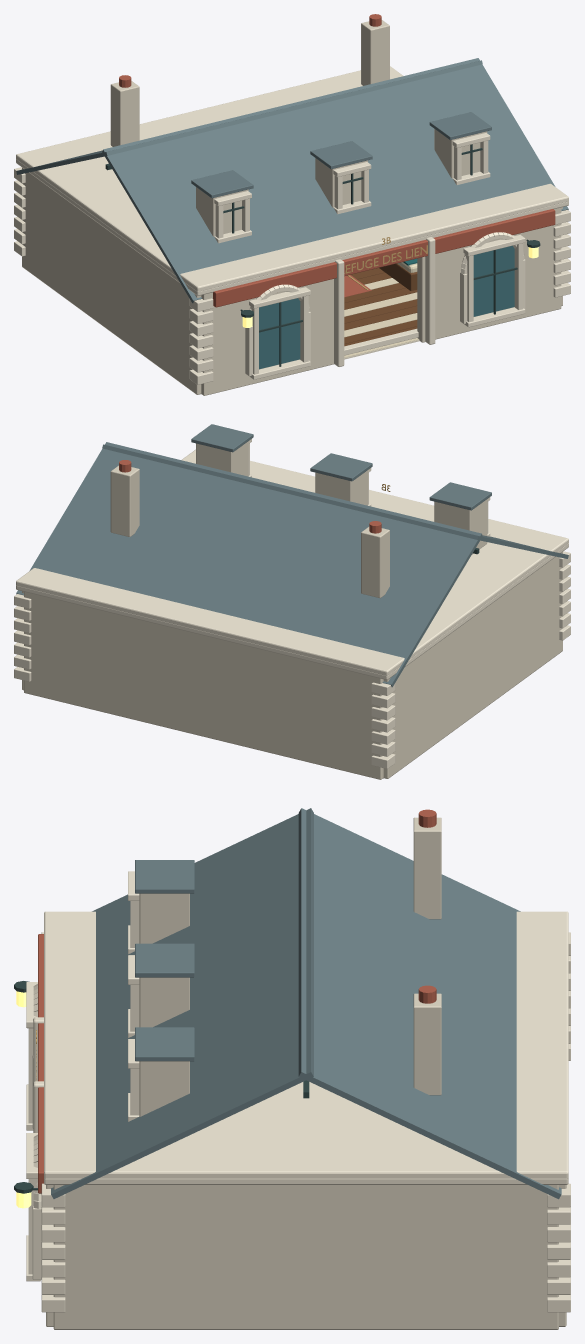
Rendered from Refuge.glb.
The picture shows the model from 3 angles, top to bottom: view 1: azimuth 30°, elevation 25°; view 2: azimuth 150°, elevation 25°; view 3: azimuth 270°, elevation 25°; orthographic projection. The views are drawn at different scales.
Parts seen in each view (by area): view 1: Refuge_Zinc slate, Refuge_Carved ivory, Refuge_Paris limestone, Refuge_Terracotta, Refuge_Window blue, Refuge_Walnut, Refuge_Canvas ivory, Refuge_Forged midnight, Refuge_Brushed champagne; view 2: Refuge_Paris limestone, Refuge_Zinc slate, Refuge_Carved ivory; view 3: Refuge_Zinc slate, Refuge_Paris limestone, Refuge_Carved ivory, Refuge_Terracotta.
Part boxes in pixels (x1,y1,x2,y2): Refuge_Zinc slate: [16, 58, 568, 303]; Refuge_Carved ivory: [14, 66, 570, 394]; Refuge_Paris limestone: [22, 20, 562, 395]; Refuge_Terracotta: [119, 14, 555, 307]; Refuge_Window blue: [259, 245, 514, 369]; Refuge_Walnut: [344, 263, 417, 346]; Refuge_Canvas ivory: [344, 262, 418, 357]; Refuge_Forged midnight: [105, 144, 540, 366]; Refuge_Brushed champagne: [344, 237, 427, 290]; Refuge_Paris limestone: [22, 441, 562, 779]; Refuge_Zinc slate: [16, 424, 568, 687]; Refuge_Carved ivory: [14, 439, 570, 778]; Refuge_Zinc slate: [51, 808, 561, 1199]; Refuge_Paris limestone: [46, 817, 566, 1329]; Refuge_Carved ivory: [26, 871, 570, 1312]; Refuge_Terracotta: [38, 809, 436, 1193].
Size of the model in its own units: 21 by 11.15 by 18.73.
